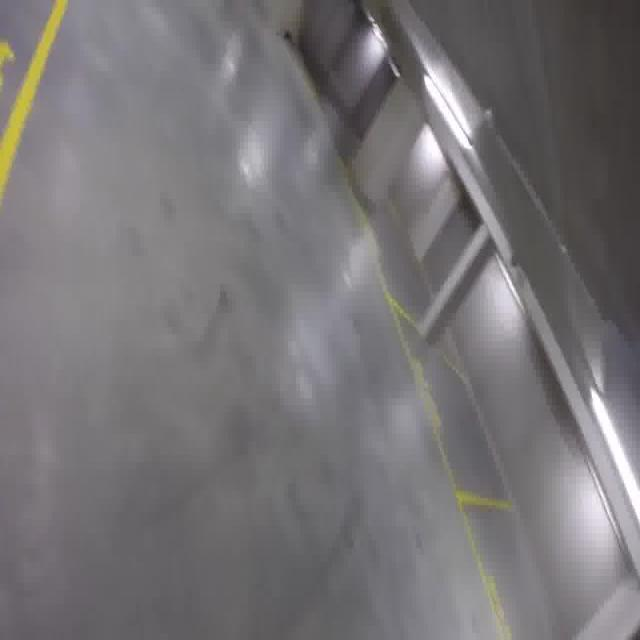drones: (274, 21, 303, 53)
